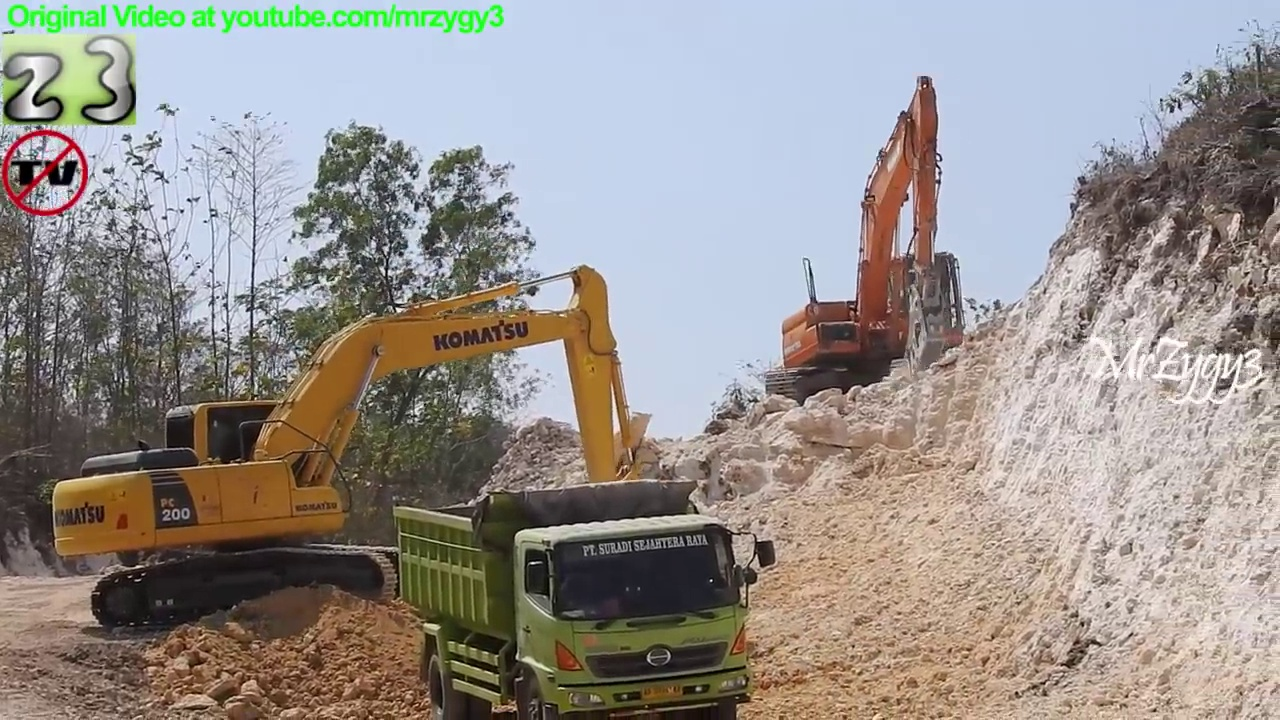excavator: (44, 264, 677, 644), (757, 69, 998, 417)
truck: (388, 471, 779, 720)
